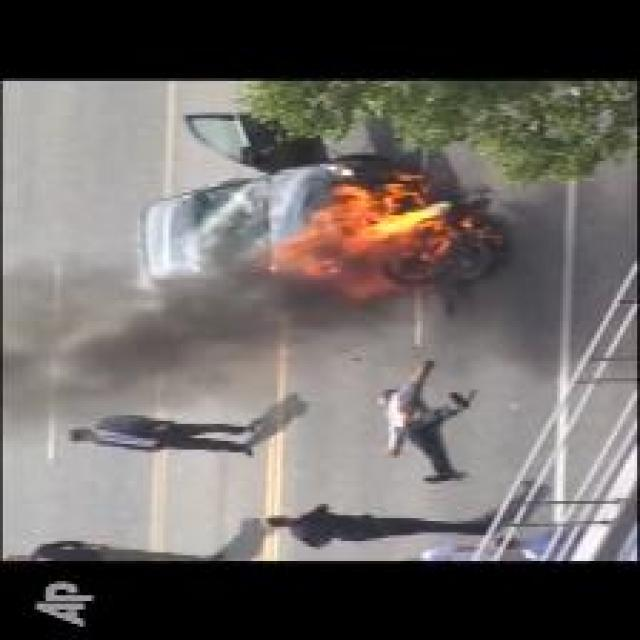Fire: (273, 172, 453, 298)
